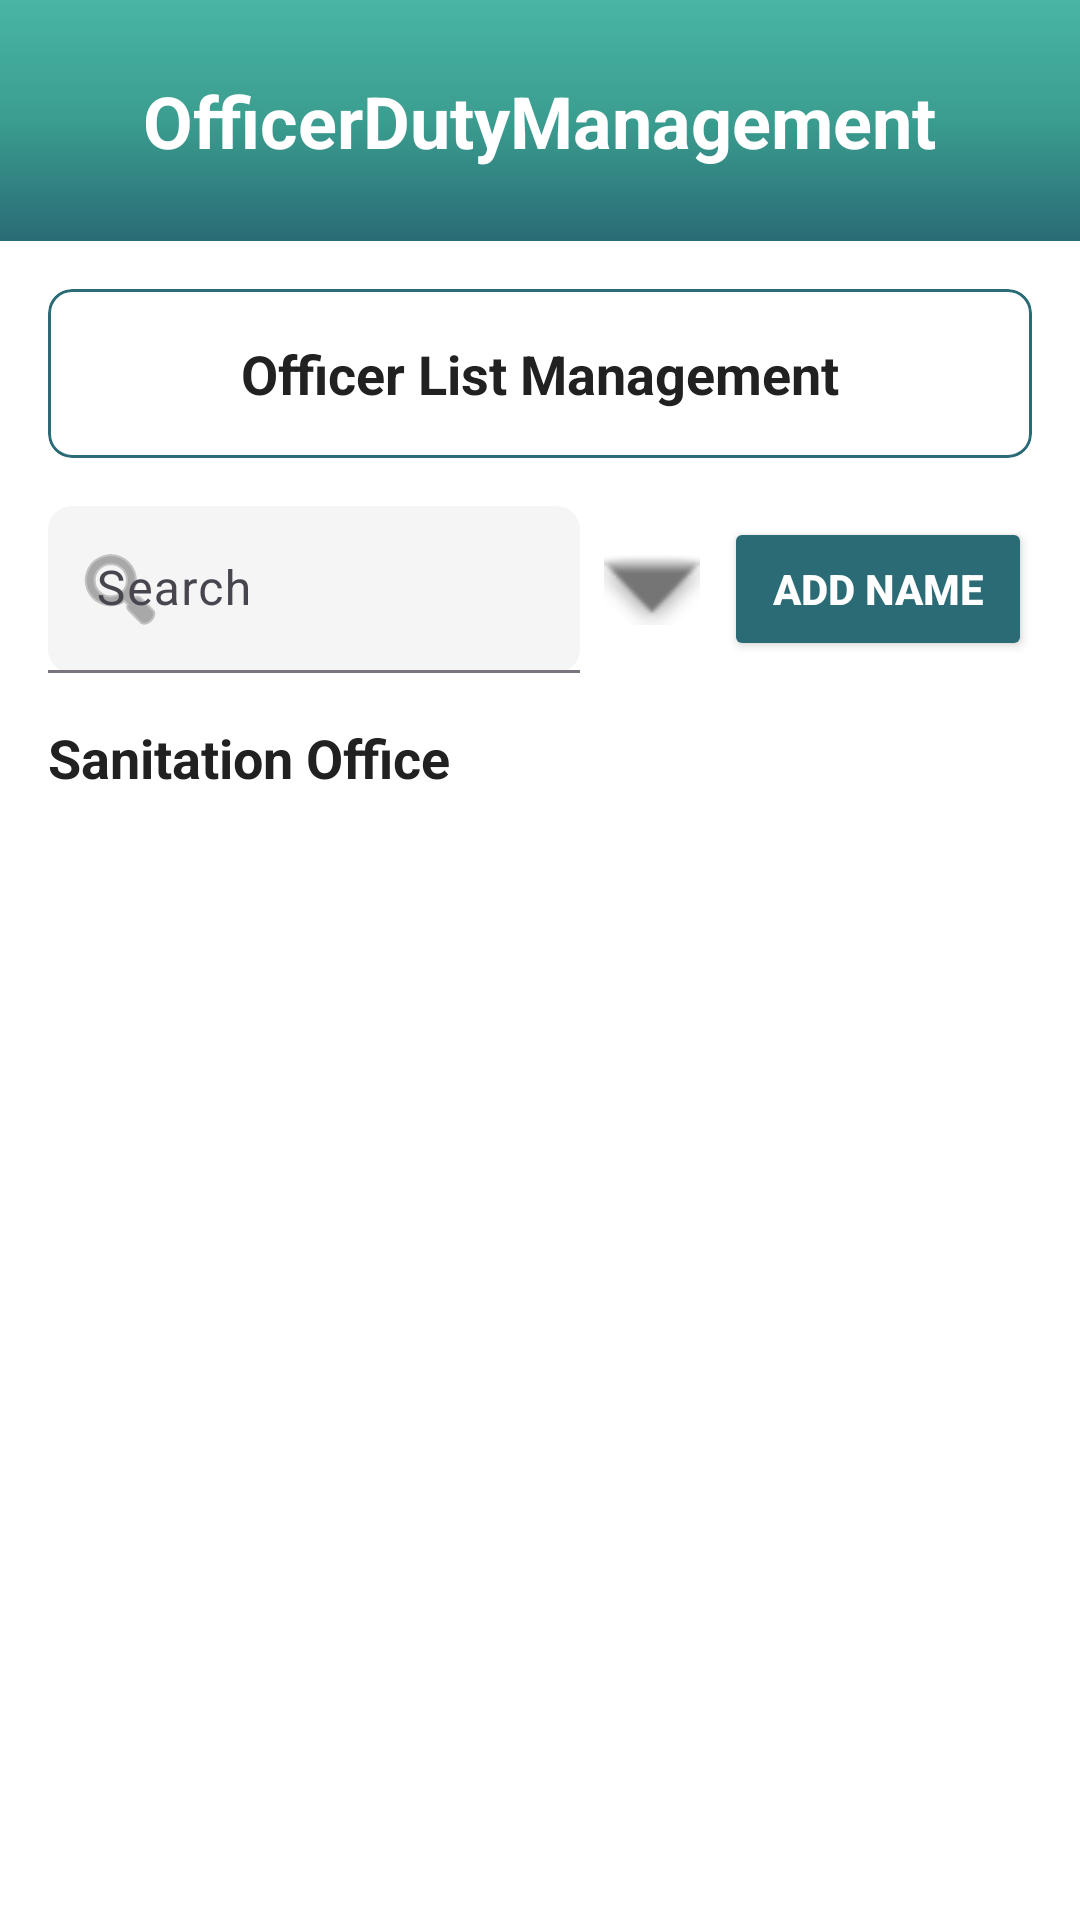

Where to tap for icons on this 1080 × 1920 app screen, as point (x, y):
Dropdown: point (652, 588)
